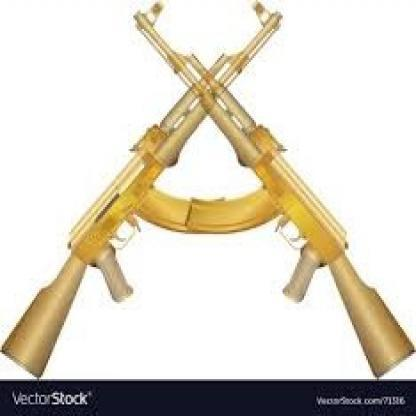Gun: (87, 12, 412, 372), (0, 17, 304, 366)
